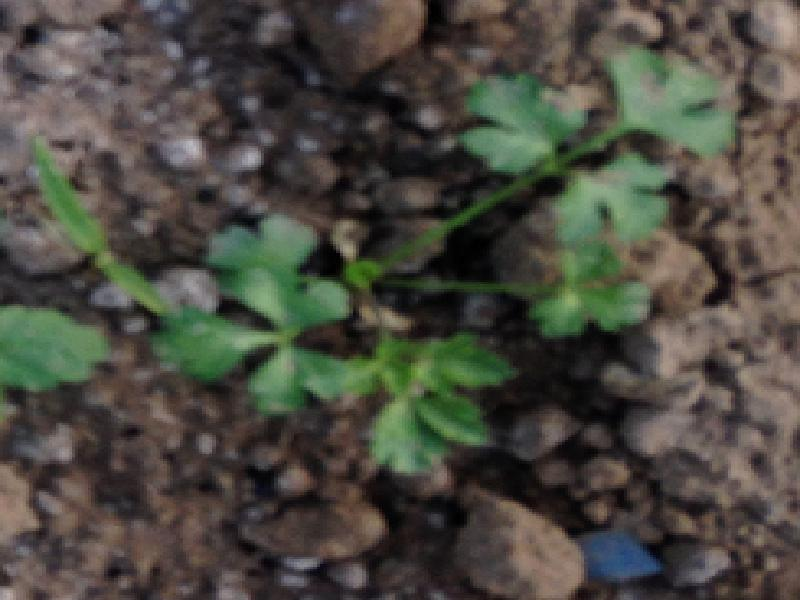radish: (61, 50, 640, 600)
